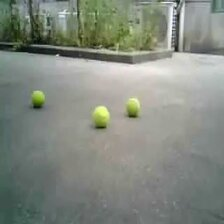tennis: (91, 106, 110, 126), (125, 98, 141, 116), (31, 90, 45, 106)
